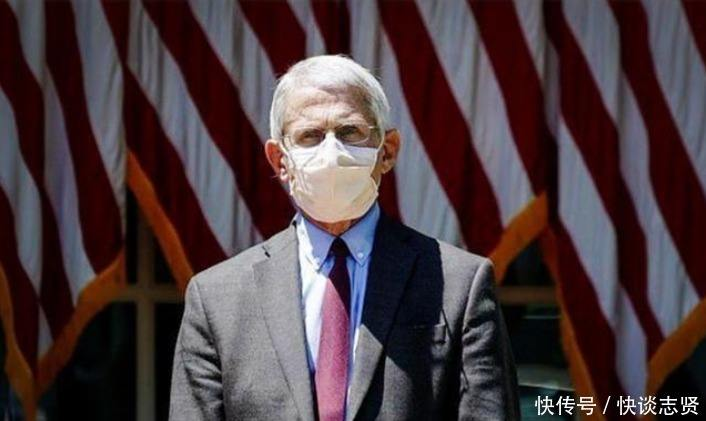mask: (282, 97, 389, 220)
